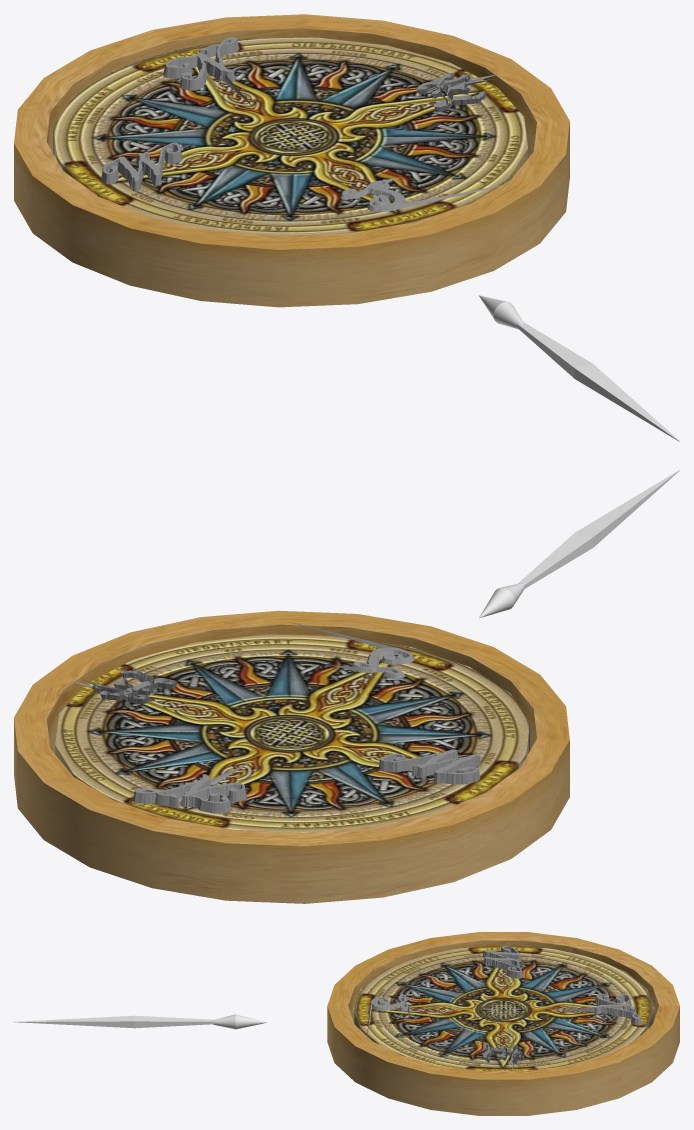
Rendered from CompassComplete.FBX.
3 renders of one model, top to bottom at view 1: azimuth 30°, elevation 25°; view 2: azimuth 150°, elevation 25°; view 3: azimuth 270°, elevation 25°, orthographic. The views are drawn at different scales.
Visible parts, largest first — view 1: Spindle001, Tube001, Box002, Text001, Text005, Text006, Text004; view 2: Spindle001, Tube001, Box002, Text001, Text005, Text006, Text004; view 3: Spindle001, Tube001, Box002, Text001, Text005, Text006, Text004.
Part boxes in pixels (x1=…): Spindle001: x1=53, y1=37, x2=527, y2=235; Tube001: x1=14, y1=14, x2=569, y2=307; Box002: x1=479, y1=295, x2=679, y2=441; Text001: x1=163, y1=37, x2=253, y2=107; Text005: x1=101, y1=142, x2=182, y2=191; Text006: x1=417, y1=73, x2=498, y2=112; Text004: x1=340, y1=177, x2=513, y2=211; Spindle001: x1=55, y1=634, x2=529, y2=832; Tube001: x1=14, y1=610, x2=569, y2=903; Box002: x1=479, y1=470, x2=679, y2=618; Text001: x1=133, y1=763, x2=249, y2=813; Text005: x1=378, y1=749, x2=480, y2=784; Text006: x1=72, y1=670, x2=177, y2=703; Text004: x1=287, y1=621, x2=414, y2=678; Spindle001: x1=353, y1=945, x2=654, y2=1070; Tube001: x1=327, y1=932, x2=679, y2=1115; Box002: x1=14, y1=1014, x2=267, y2=1029; Text001: x1=555, y1=993, x2=641, y2=1025; Text005: x1=482, y1=945, x2=522, y2=978; Text006: x1=483, y1=1043, x2=524, y2=1071; Text004: x1=366, y1=994, x2=409, y2=1040.
Bounding box in the file's own units: 23.38 × 3.28 × 44.6.
6 materials, 2 textured.
